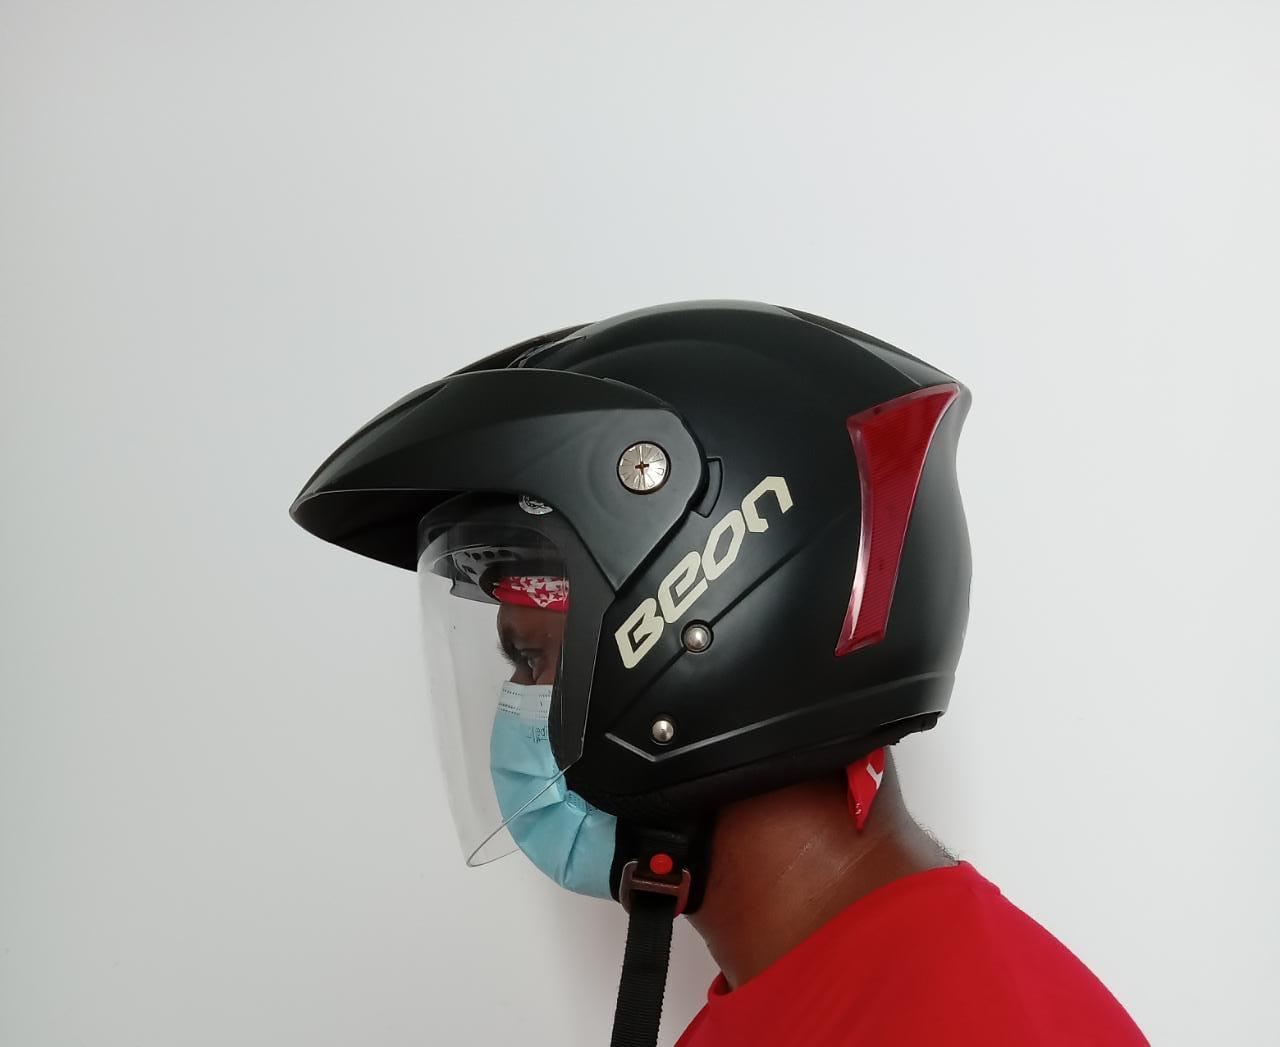helmet: (288, 294, 973, 872)
